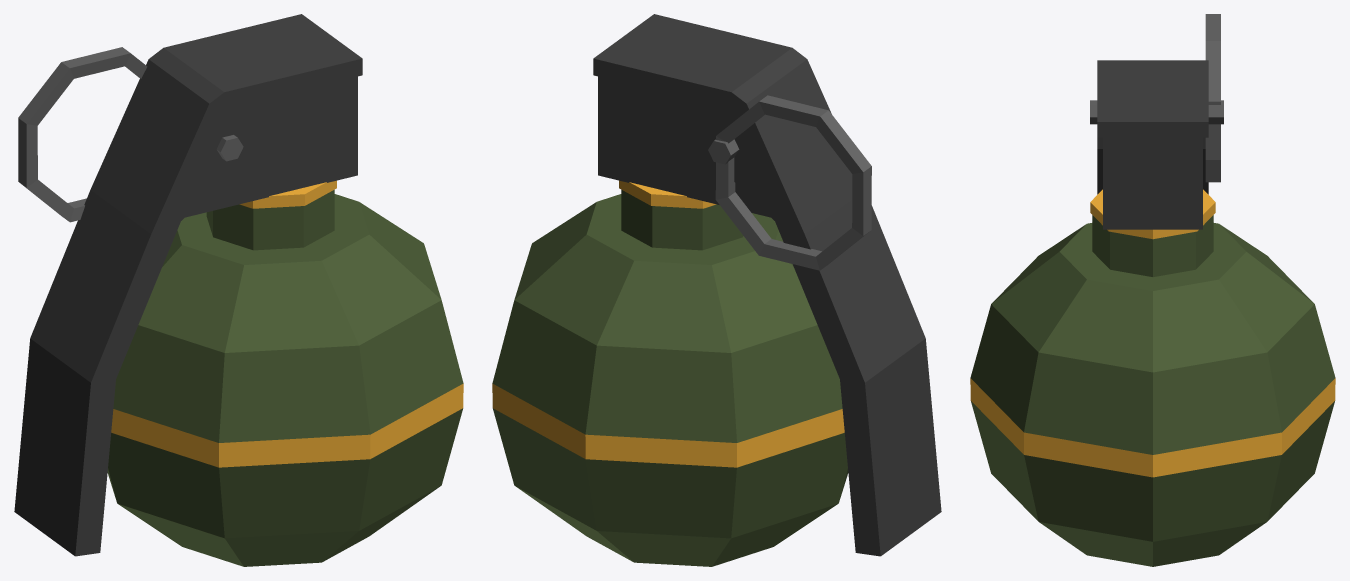
Rendered from Frag_Grenade.fbx.
The picture shows the model from 3 angles, left to right: view 1: azimuth 30°, elevation 25°; view 2: azimuth 150°, elevation 25°; view 3: azimuth 270°, elevation 25°; orthographic projection. The views are drawn at different scales.
Parts seen in each view (by area): view 1: Frag Grenade; view 2: Frag Grenade; view 3: Frag Grenade.
Part boxes in pixels (x1,y1,x2,y2): Frag Grenade: (14, 14, 463, 566); Frag Grenade: (492, 14, 941, 566); Frag Grenade: (970, 14, 1335, 566).
Bounding box in the file's own units: 554 × 635 × 481.
Materials: 1 (1 with a texture image).
